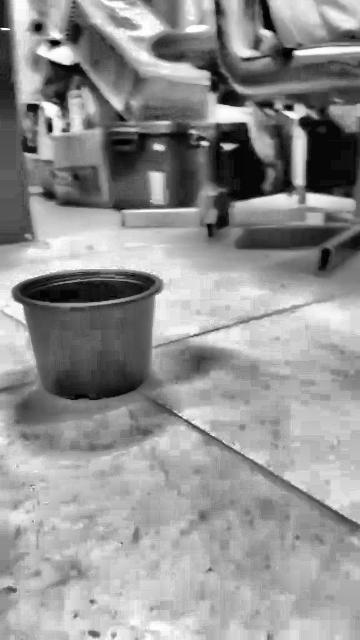pot: (13, 269, 160, 399)
